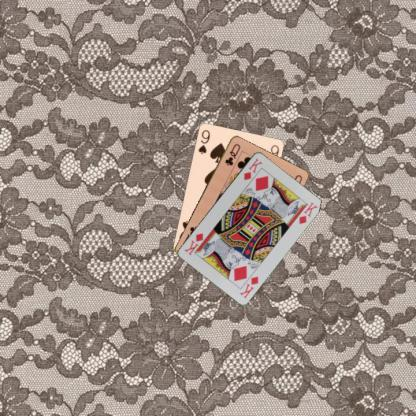9s: (195, 127, 211, 156)
Kd: (241, 156, 263, 182), (238, 274, 260, 300)
Qc: (222, 141, 241, 167)
